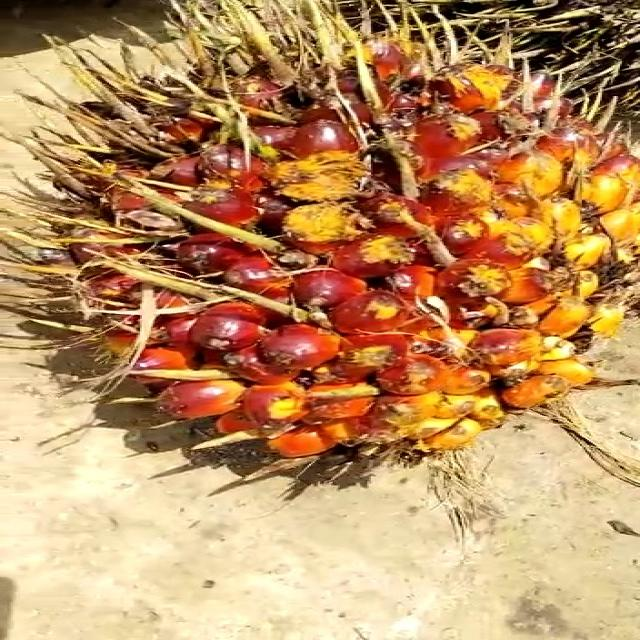palm oil: (1, 23, 640, 471)
